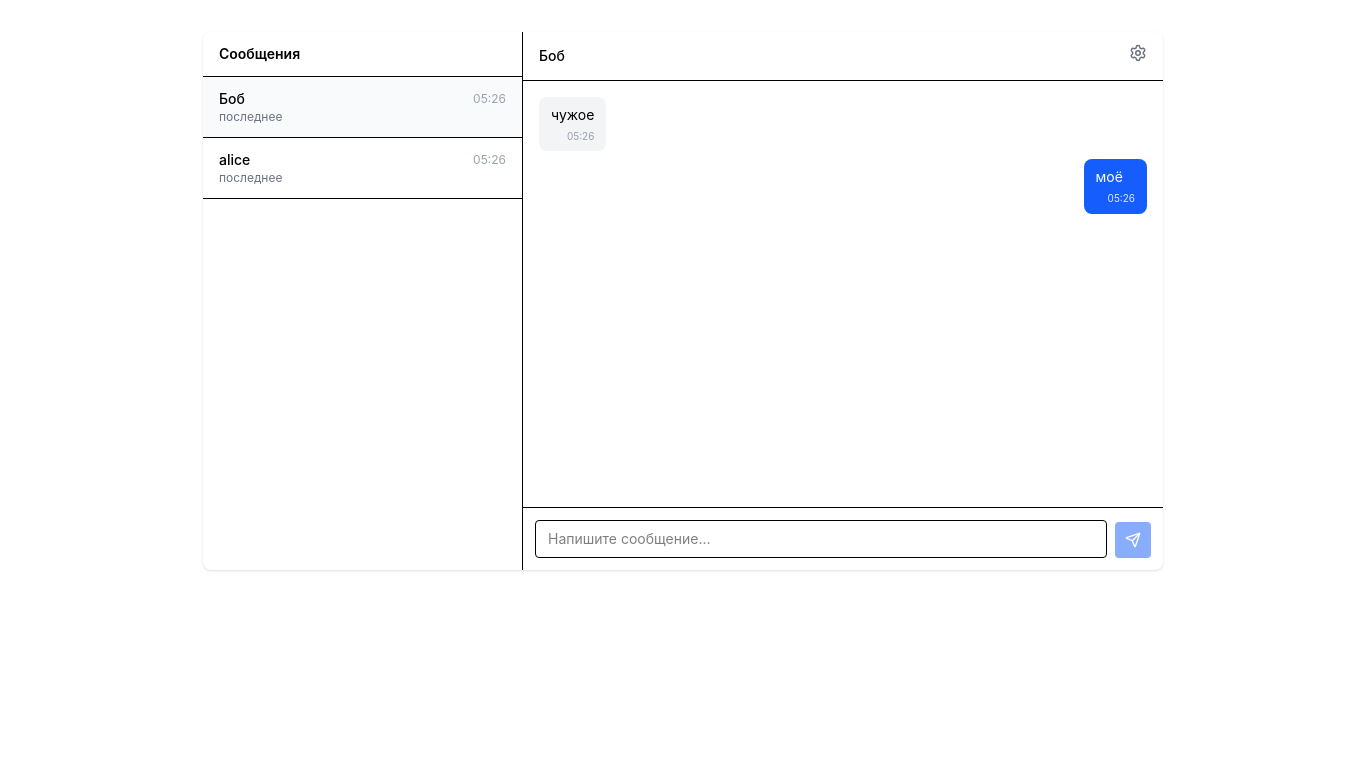
Scenario: MessagesPage: пересылка › пересылка в другой диалог вызывает API и переходит в этот диалог
Click the text "чужое".
click(573, 115)  # box [551,105,594,125]
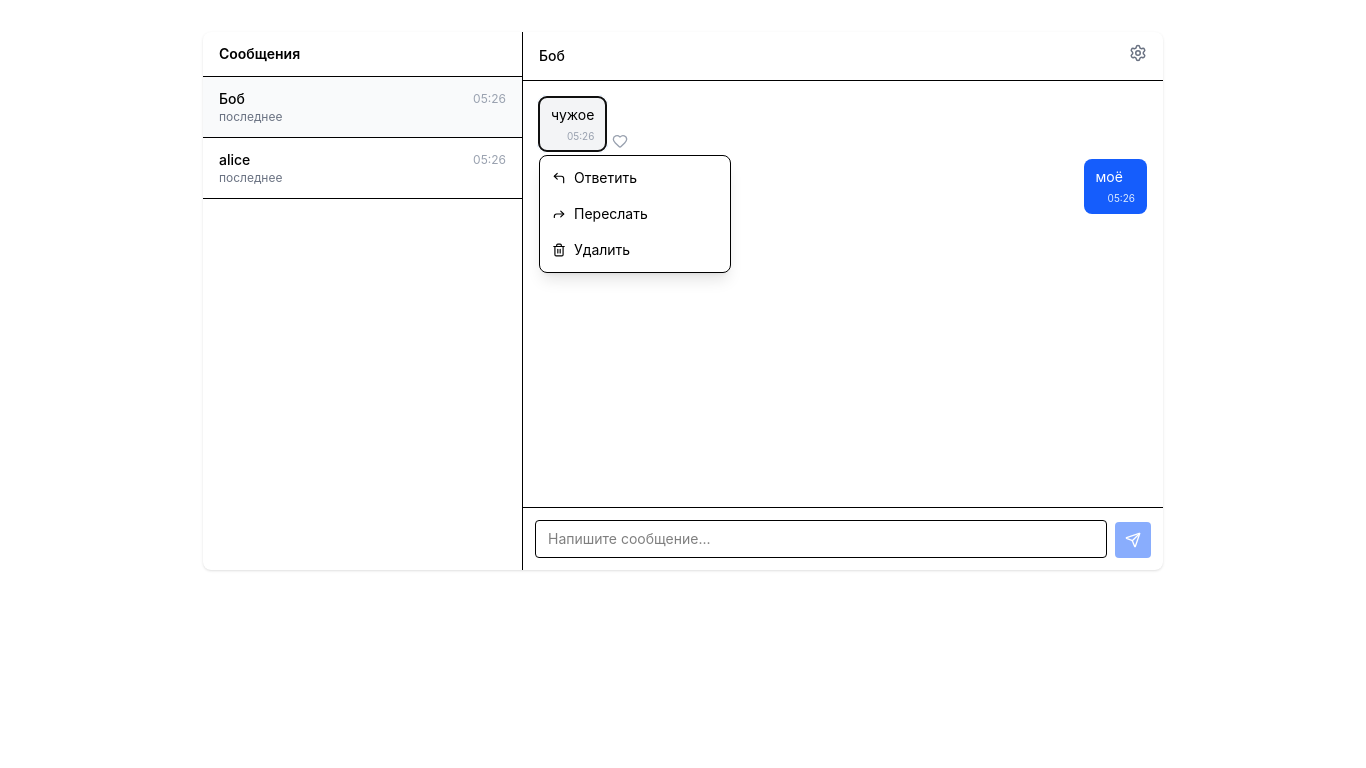
Click the menu item "Переслать".
click(635, 214)  # box [540,196,730,232]
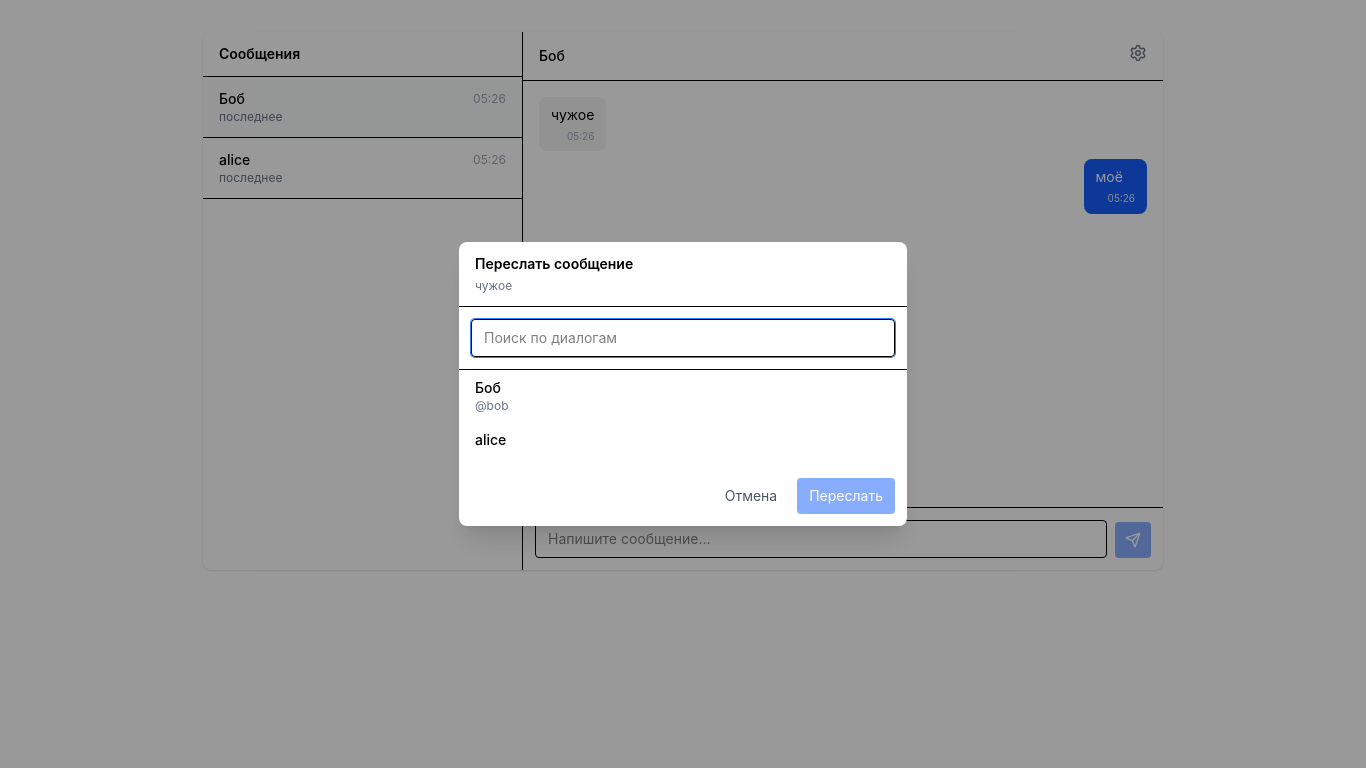
Click the radio button labelled "alice".
click(491, 440)  # box [459,422,907,458]
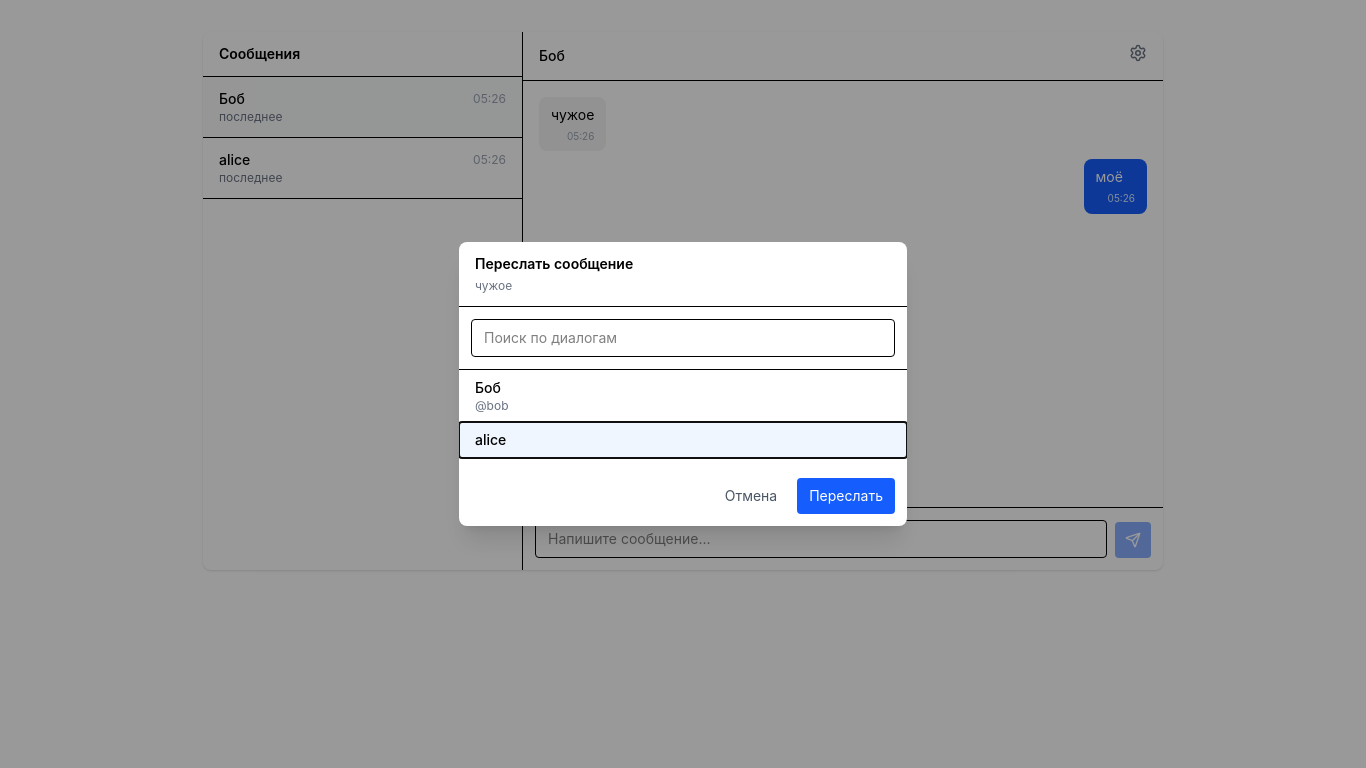
Click the button "Переслать".
click(846, 496)  # box [797,478,895,514]
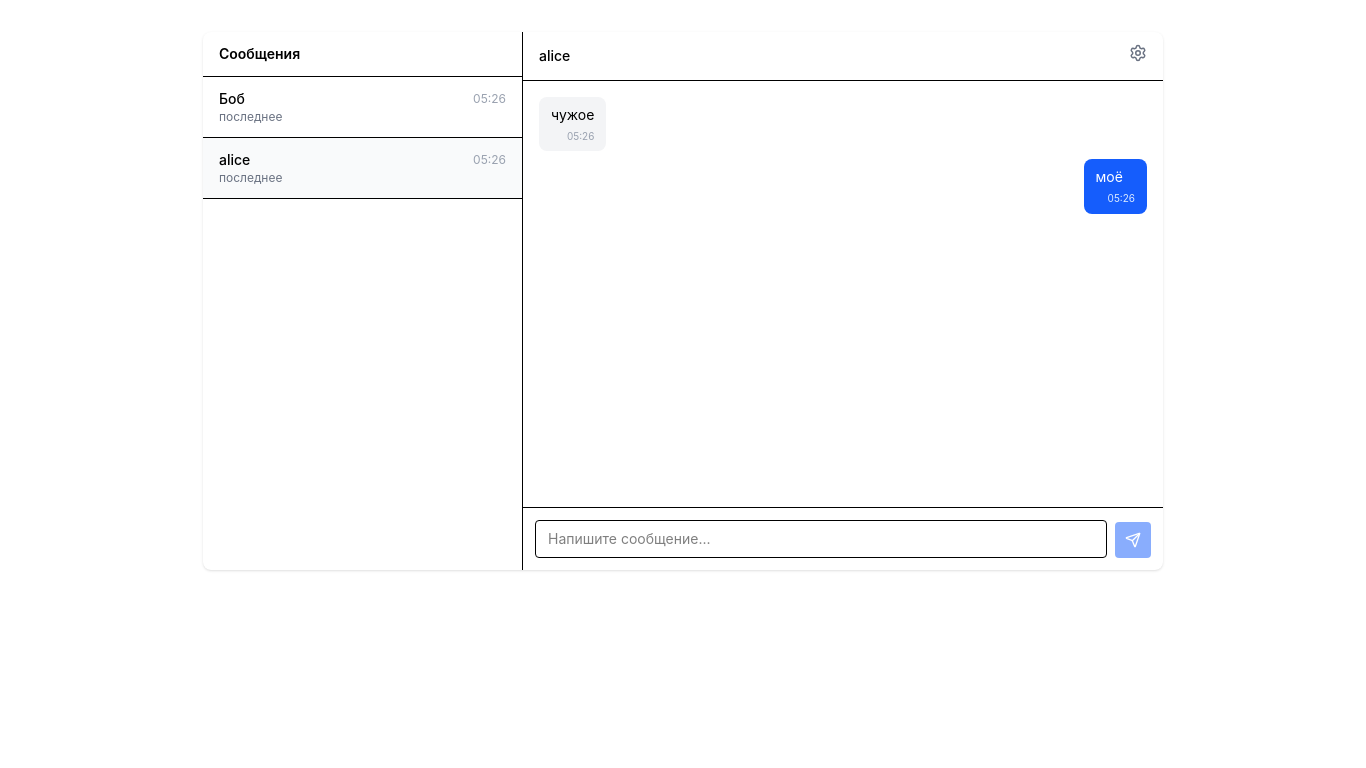
Now the heading "Переслать сообщение" is gone
